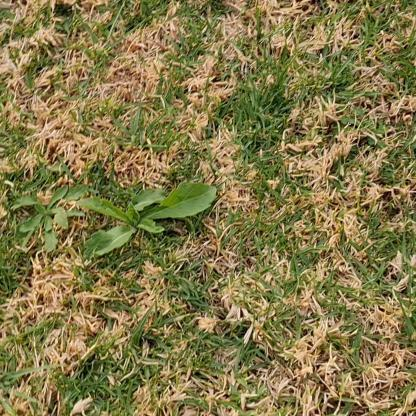Weeds: (77, 183, 217, 260), (11, 185, 89, 251)
